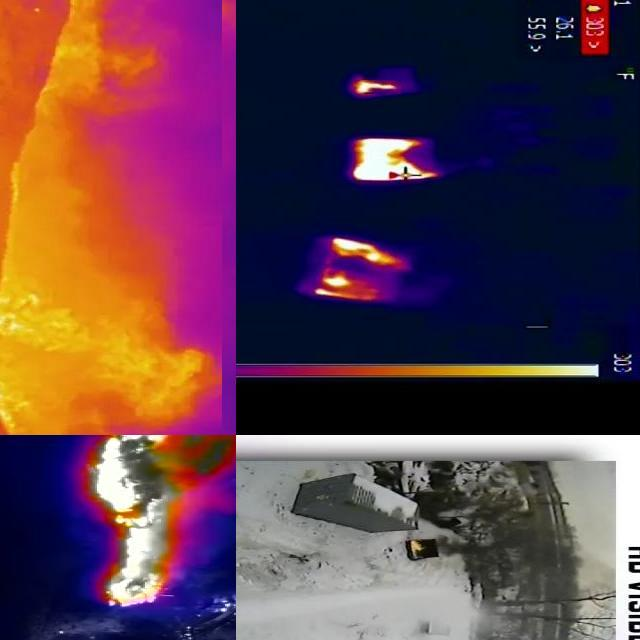fire: (1, 1, 222, 436), (84, 436, 237, 605), (350, 137, 440, 183), (331, 238, 407, 270), (311, 273, 373, 303), (353, 81, 401, 95), (409, 541, 425, 562)
